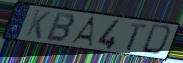4: (96, 18, 121, 51)
A: (69, 16, 97, 48)
B: (45, 11, 77, 43)
D: (139, 23, 175, 58)
K: (24, 8, 52, 41)
T: (125, 22, 148, 52)
